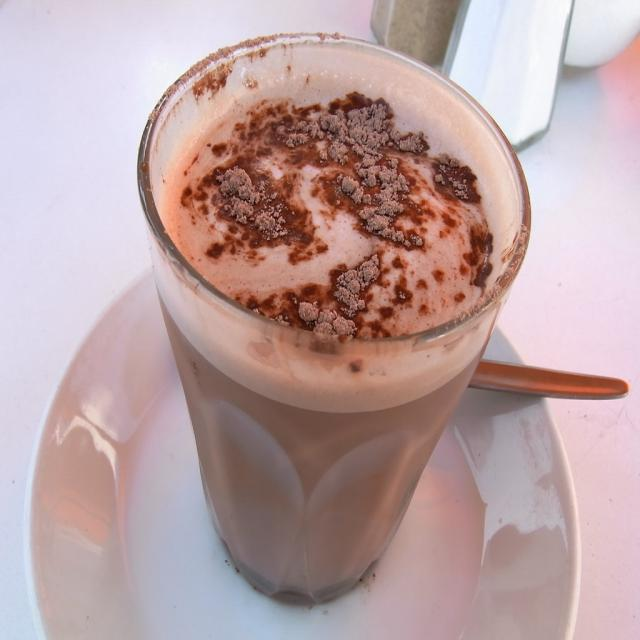Coffee: (164, 95, 496, 337)
